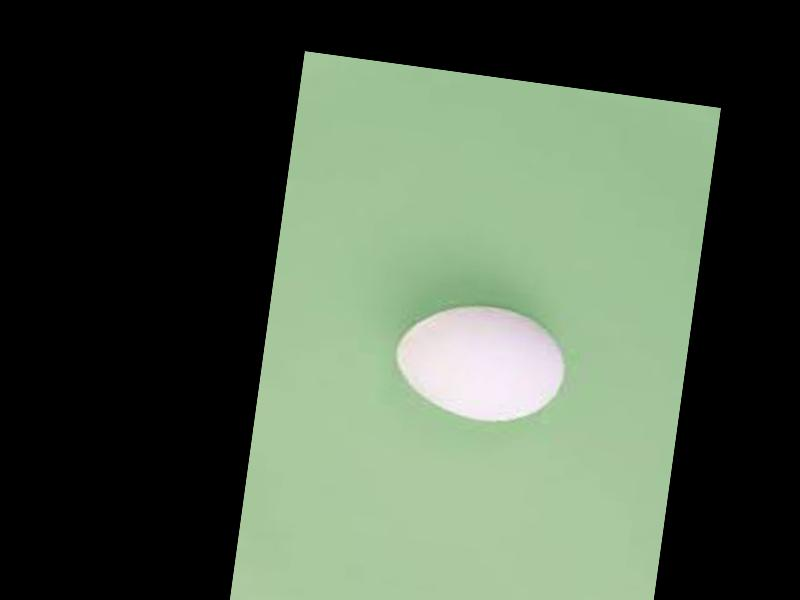Eggs: (389, 293, 574, 430)
